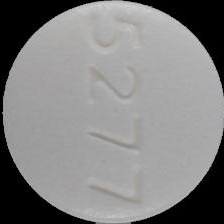0093-5277: (0, 0, 224, 224)
